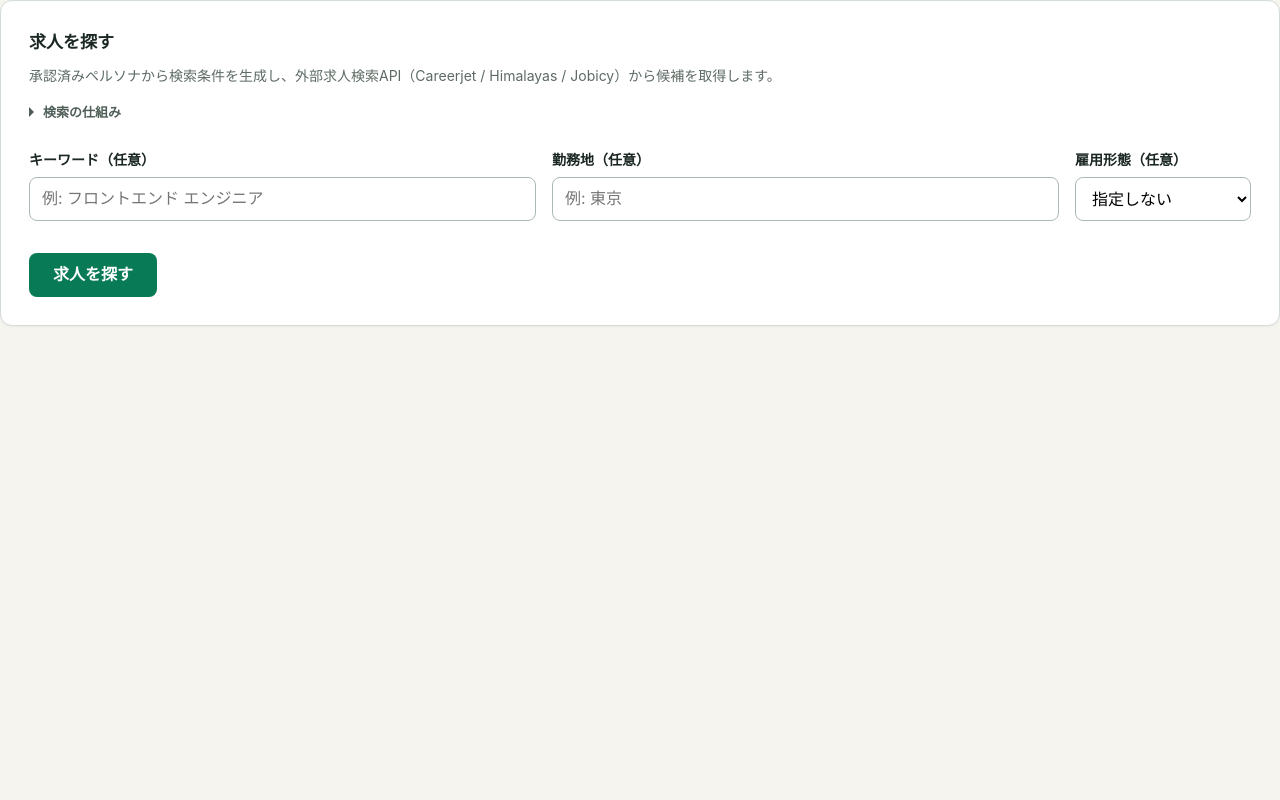
Test: JobDiscovery bulk import (#116) › prevents double submit during bulk importing
Click the button "求人を探す" at [93, 275], box [29,253,157,297]
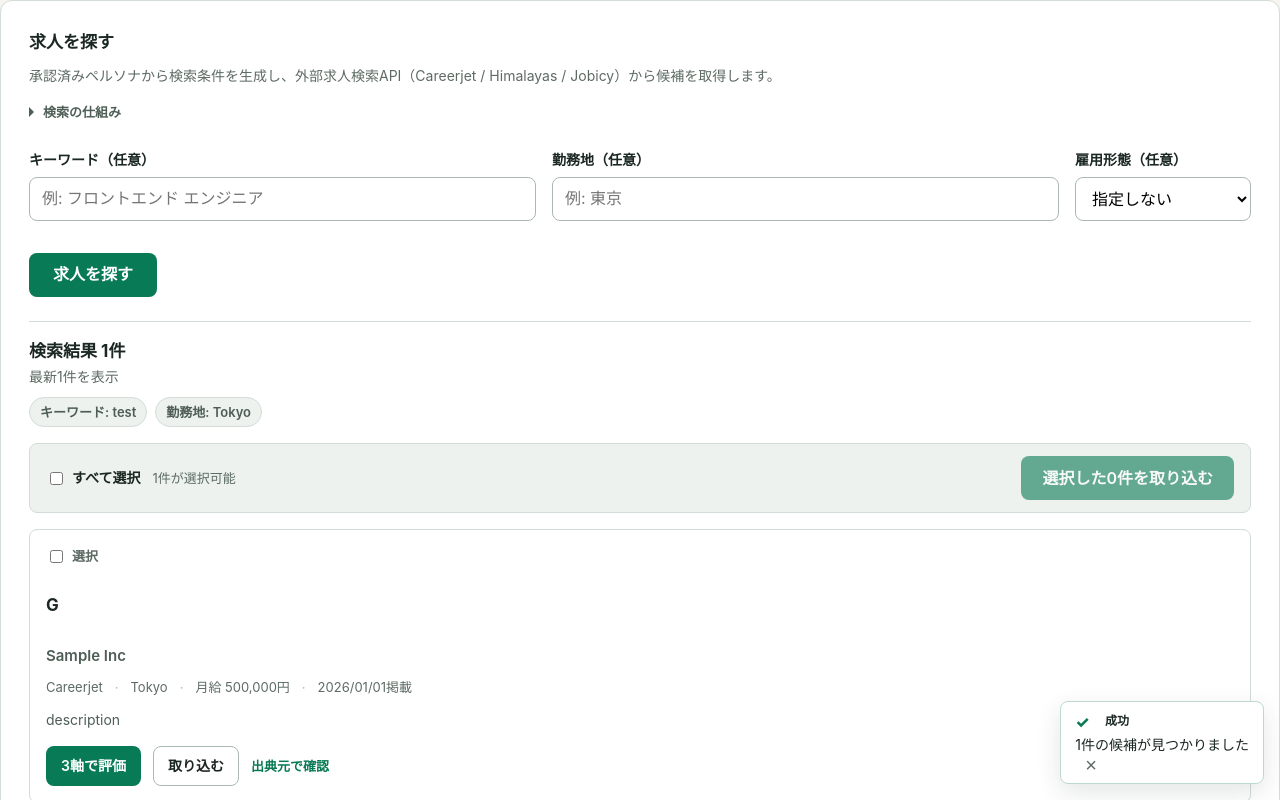
Now the heading "G" is shown, box [46,595,59,615]
Click the checkbox named "G を選択" at [56, 557], box [50,550,63,563]
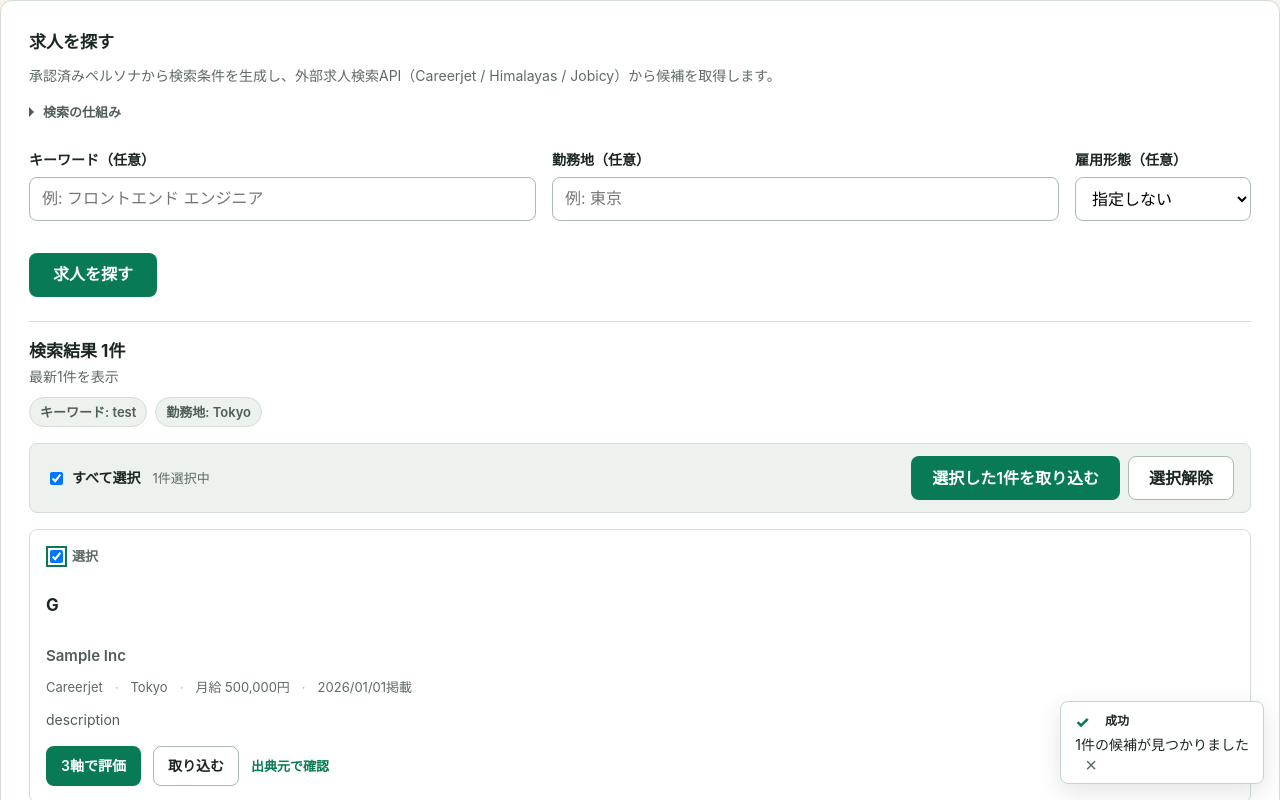
Click the button "選択した1件を取り込む" at [1016, 478], box [911,456,1120,500]
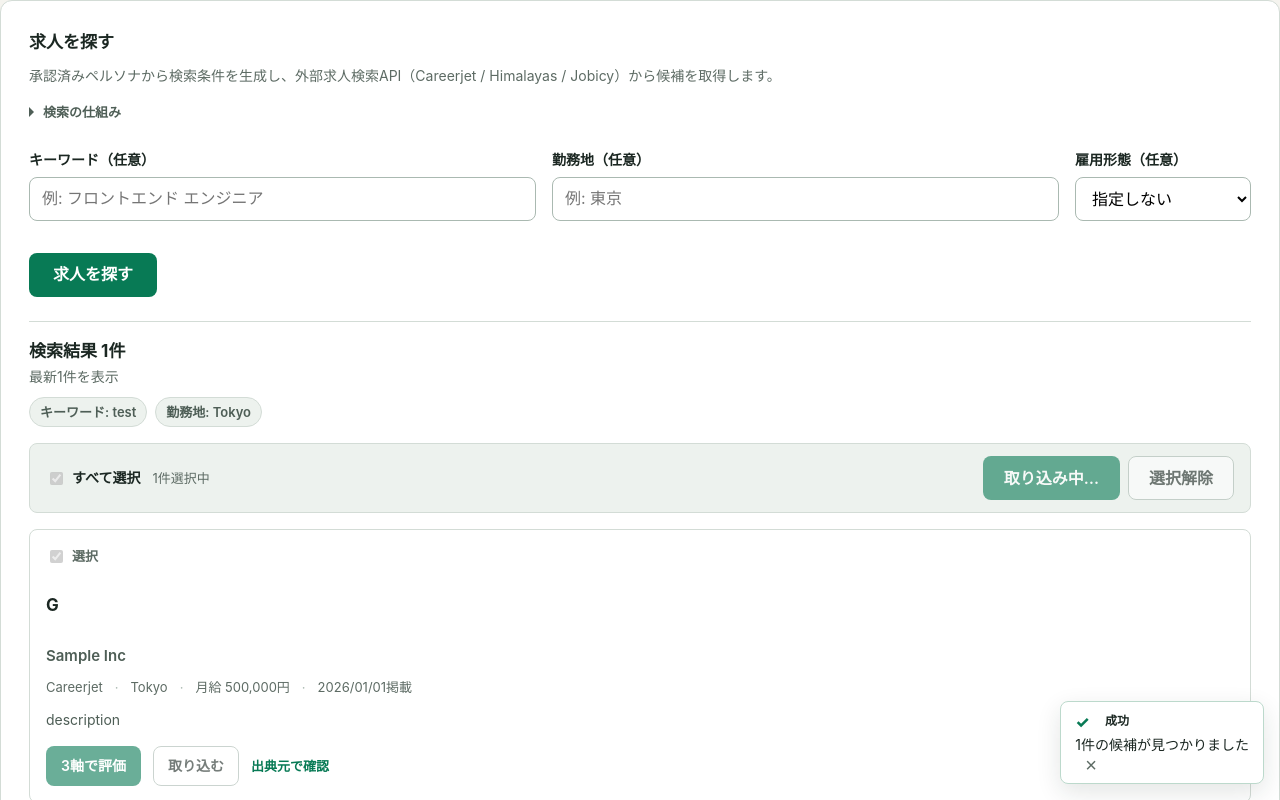
# second click while importing should be ignored
Click the button named "選択した1件を取り込む" at [1051, 478], box [983,456,1120,500]
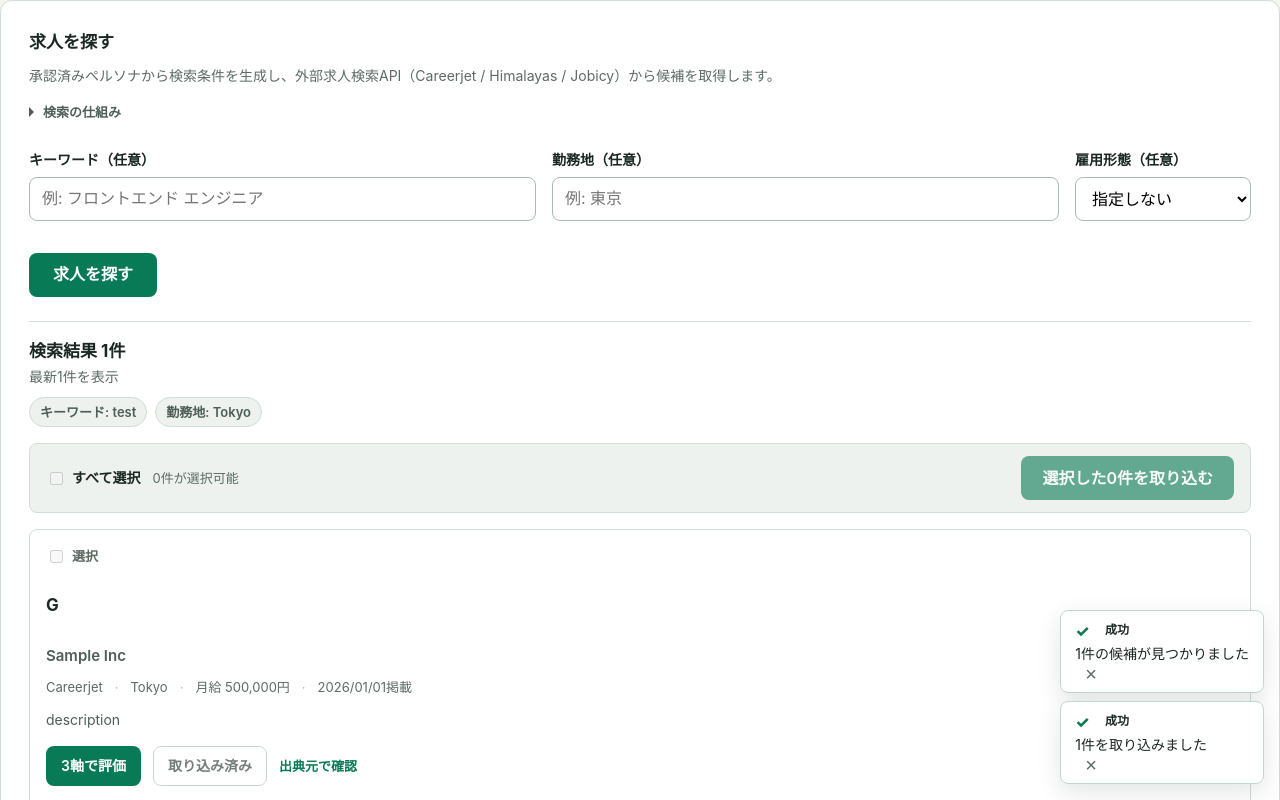
Now the button "取り込み済み" is shown, box [153,746,267,786]
